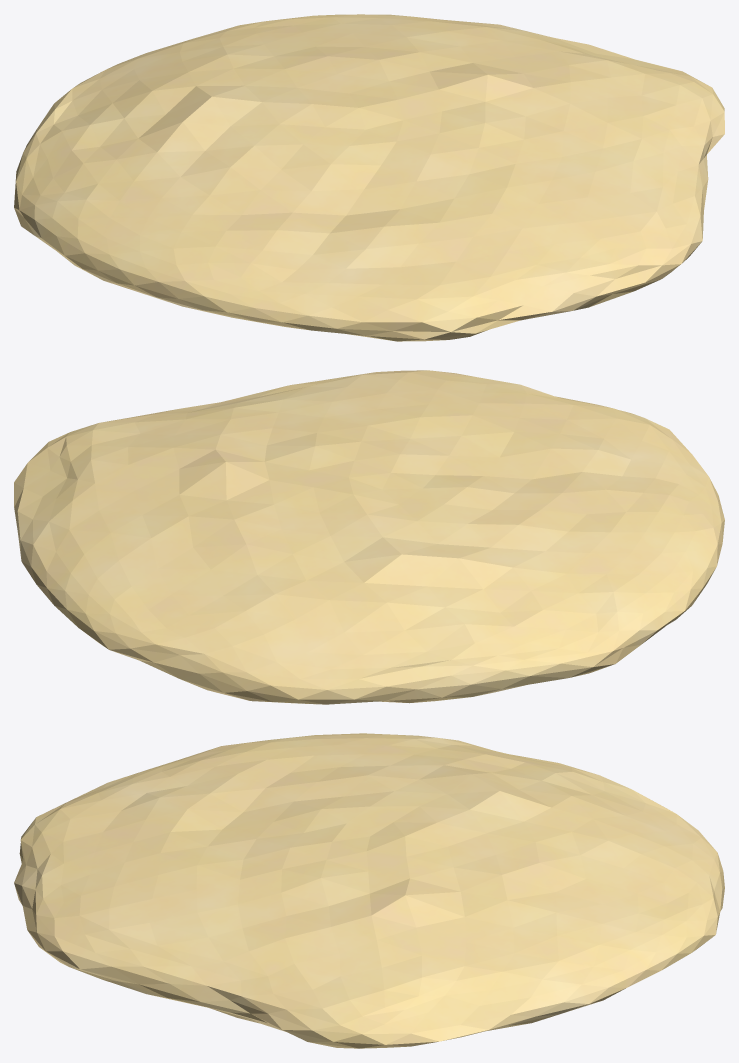
File: Island.fbx
3 views of the same model, one above another, from view 1: azimuth 30°, elevation 25°; view 2: azimuth 150°, elevation 25°; view 3: azimuth 270°, elevation 25° (orthographic). The views are drawn at different scales.
Visible parts, largest first — view 1: Island; view 2: Island; view 3: Island.
Boxes of the visible parts, x1=… form: Island: x1=14, y1=14, x2=724, y2=341; Island: x1=14, y1=370, x2=724, y2=704; Island: x1=14, y1=733, x2=724, y2=1048.
Size of the model in its own units: 5305 by 768 by 5215.
